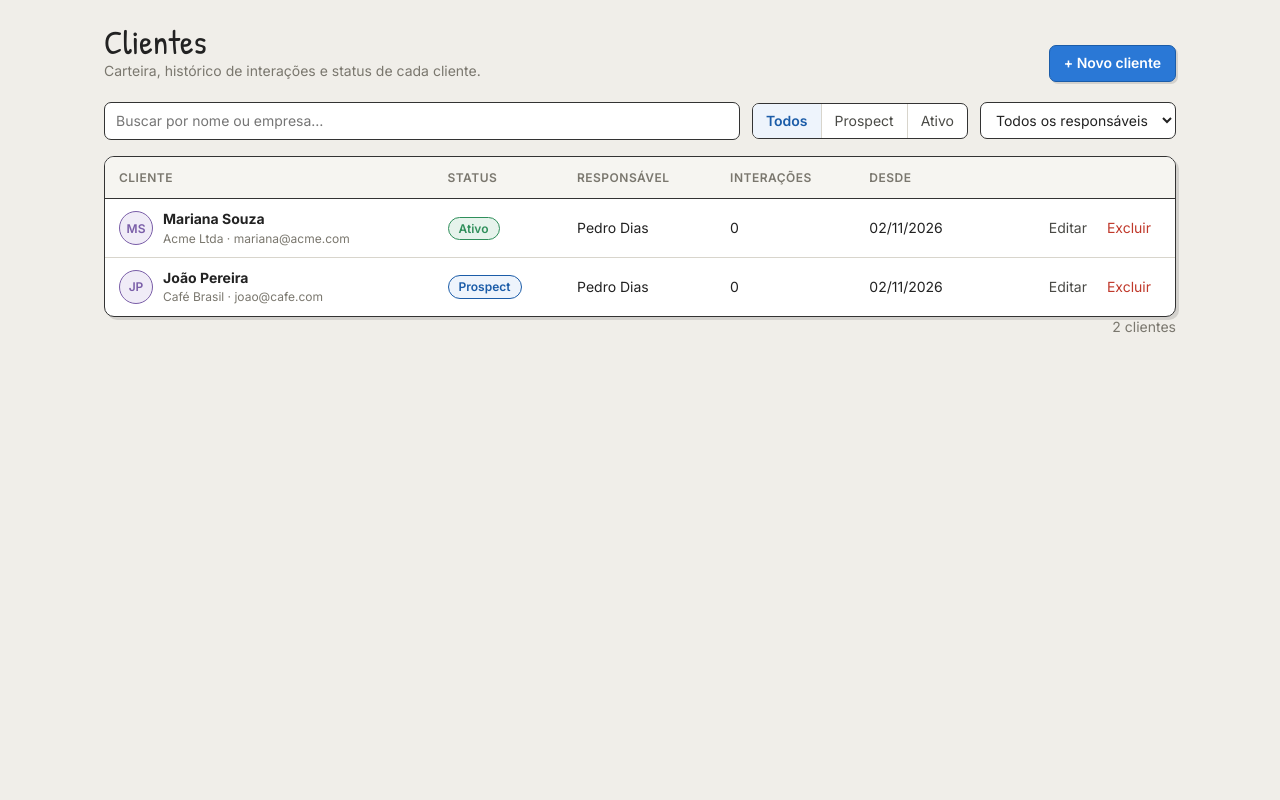
Test: ClientesApp (microfrontend) › abre o detalhe e registra uma interação
The image size is (1280, 800).
Click the button with aria-label "Ver detalhes de Mariana Souza": (234, 228) [119,209,350,247]
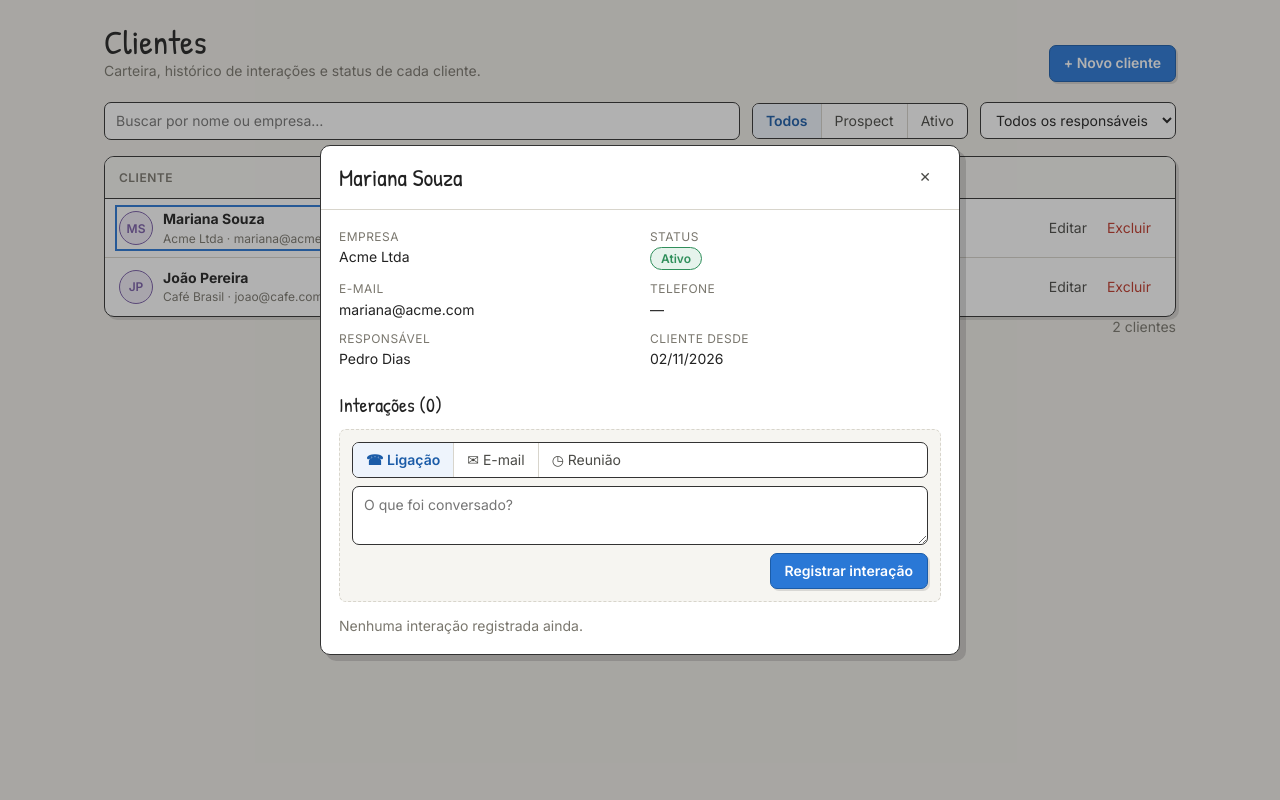
Now the text "Nenhuma interação registrada ainda." is shown, box [339,617,583,634]
Click the radio button labelled "◷ Reunião": (586, 460) [538,443,634,477]
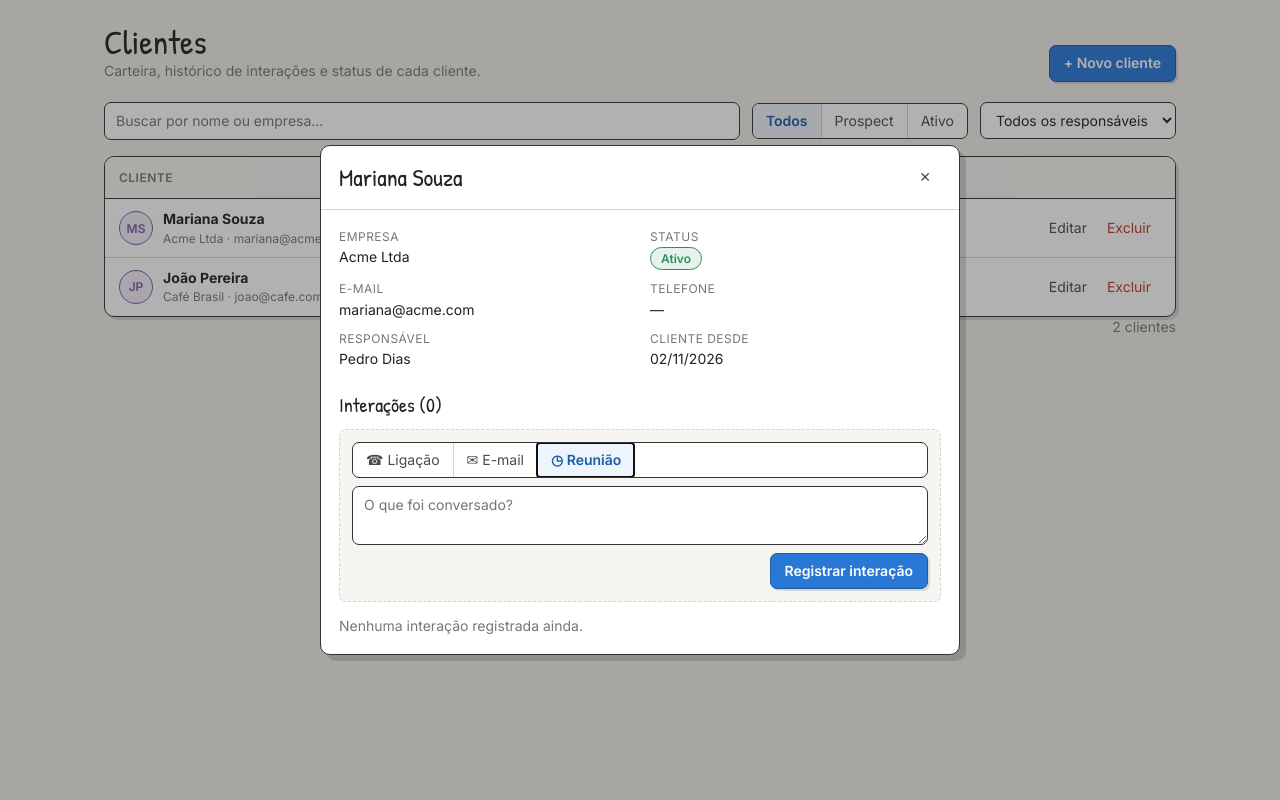
In the text box named "Observação": (640, 515) [352,486,928,545], type "Apresentei a proposta"
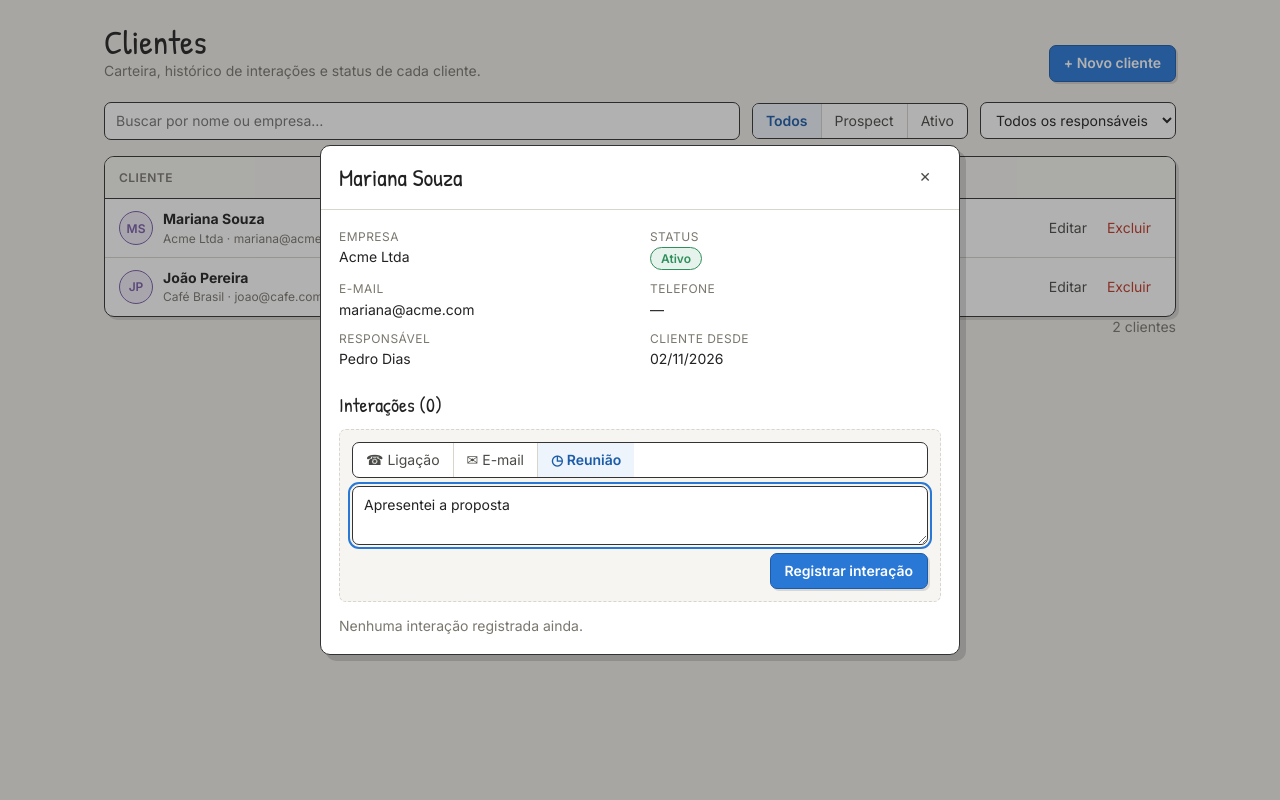
Click the button "Registrar interação": (849, 571) [770,553,928,589]
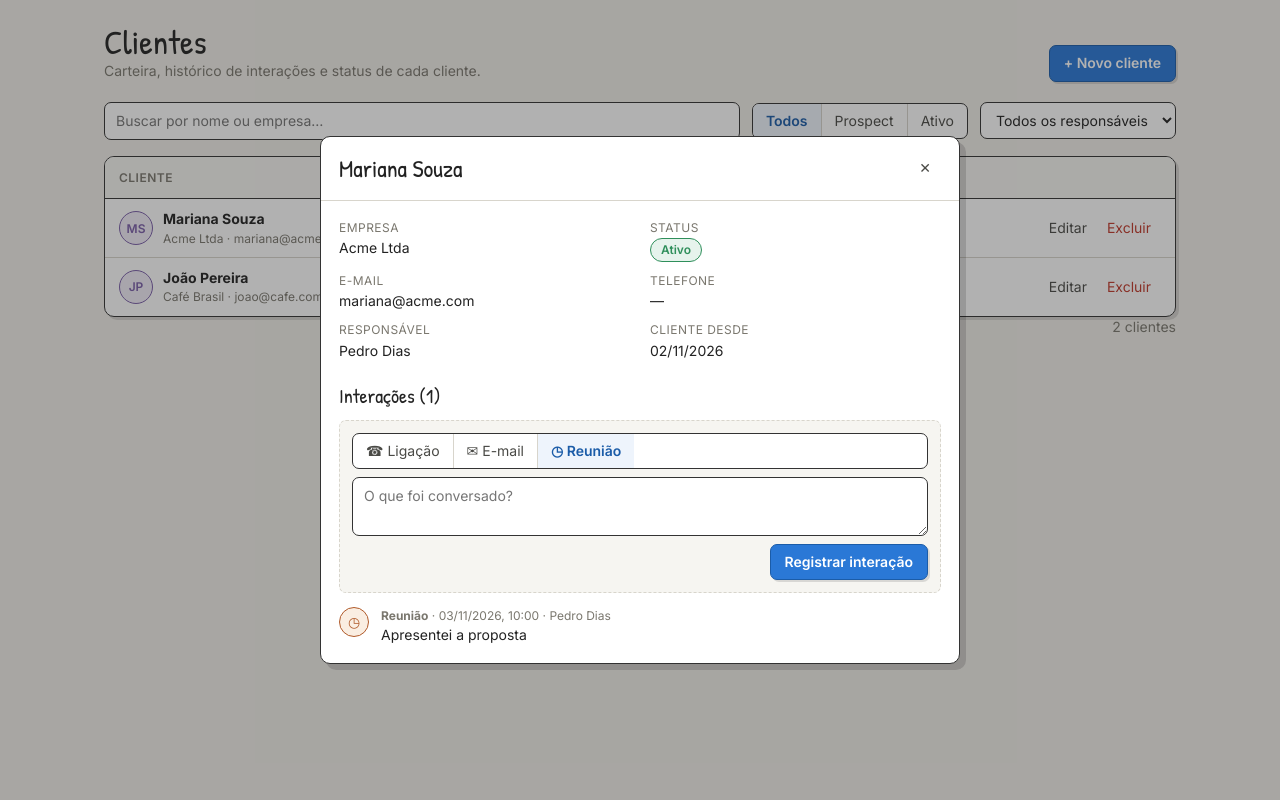
Now the text "Apresentei a proposta" is shown, box [381,626,527,643]
